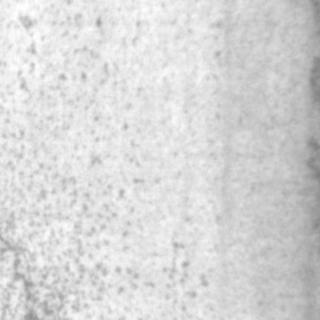pitted_surface: (0, 10, 200, 316)
